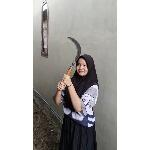Celurit: (57, 33, 84, 84)
